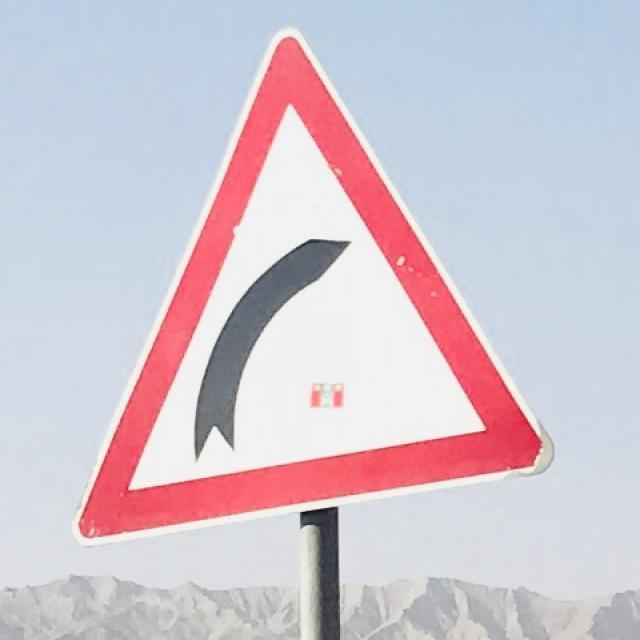right hand curve: (72, 26, 543, 544)
